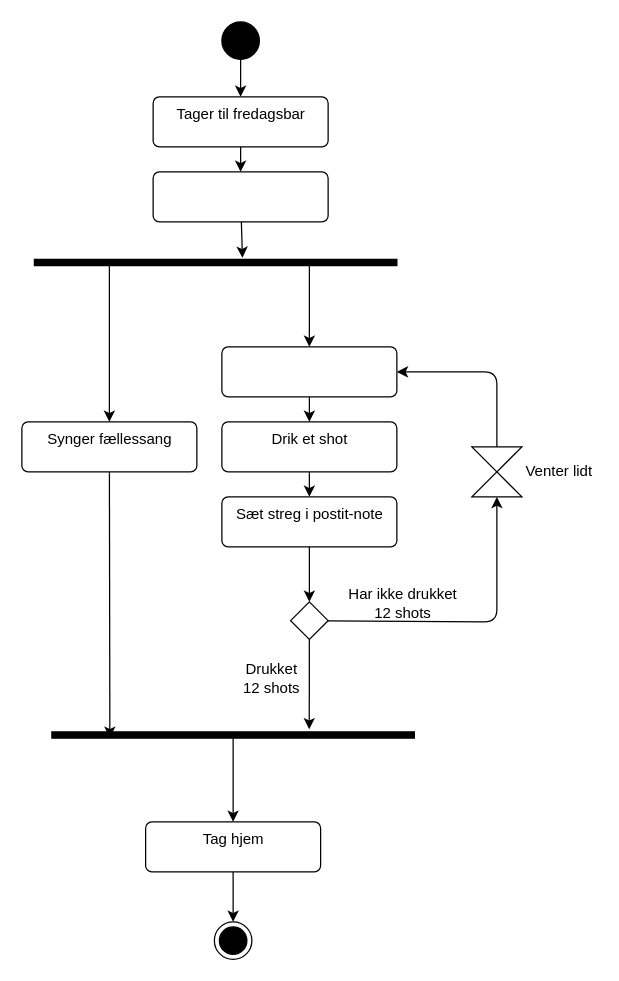
Some shapes in this 619 by 981 pixel diagram are drawn without their labels. The shapes that lost their labels are listed below. From the top down, each one's centre as x and y in pixels, then its label:
At point 240,196: "Finder en postit".
At point 309,371: "Køb et shot".
